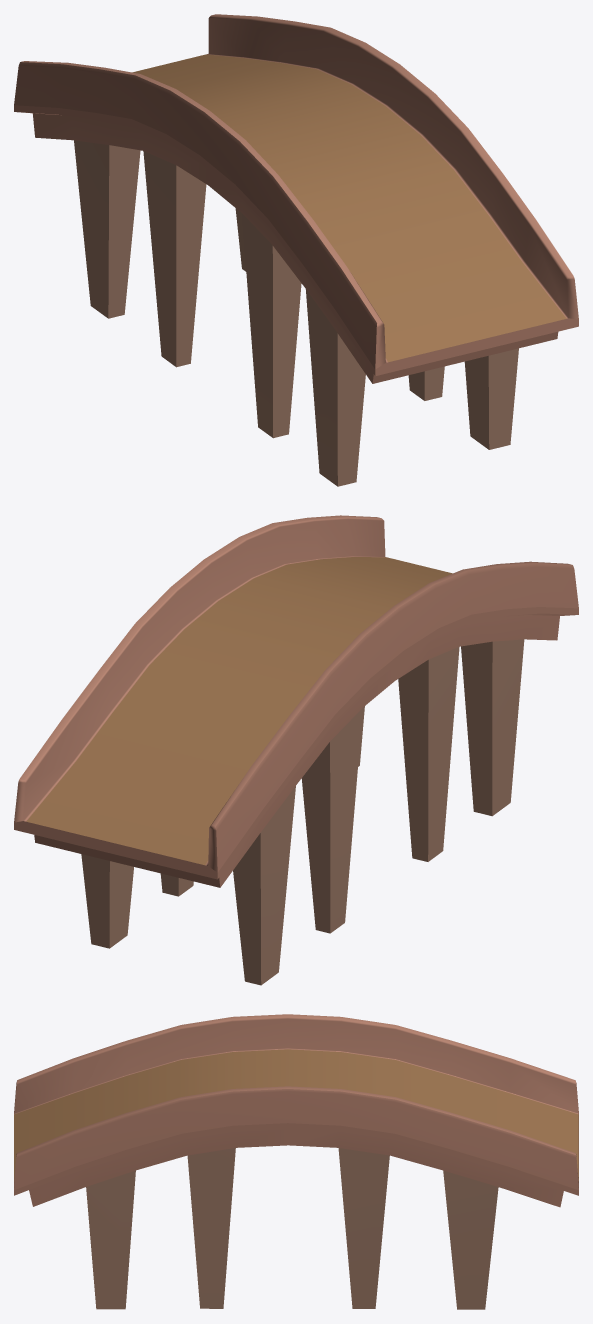
File: bridge_tall.fbx
The picture shows the model from 3 angles, top to bottom: view 1: azimuth 30°, elevation 25°; view 2: azimuth 150°, elevation 25°; view 3: azimuth 270°, elevation 25°; orthographic projection. The views are drawn at different scales.
Parts seen in each view (by area): view 1: pCube1; view 2: pCube1; view 3: pCube1.
Boxes of the visible parts, box(x1,y1,x2,y2) form: pCube1: box(14, 14, 578, 486); pCube1: box(14, 515, 578, 985); pCube1: box(14, 1014, 578, 1309).
Size of the model in its own units: 130 by 176 by 399.
